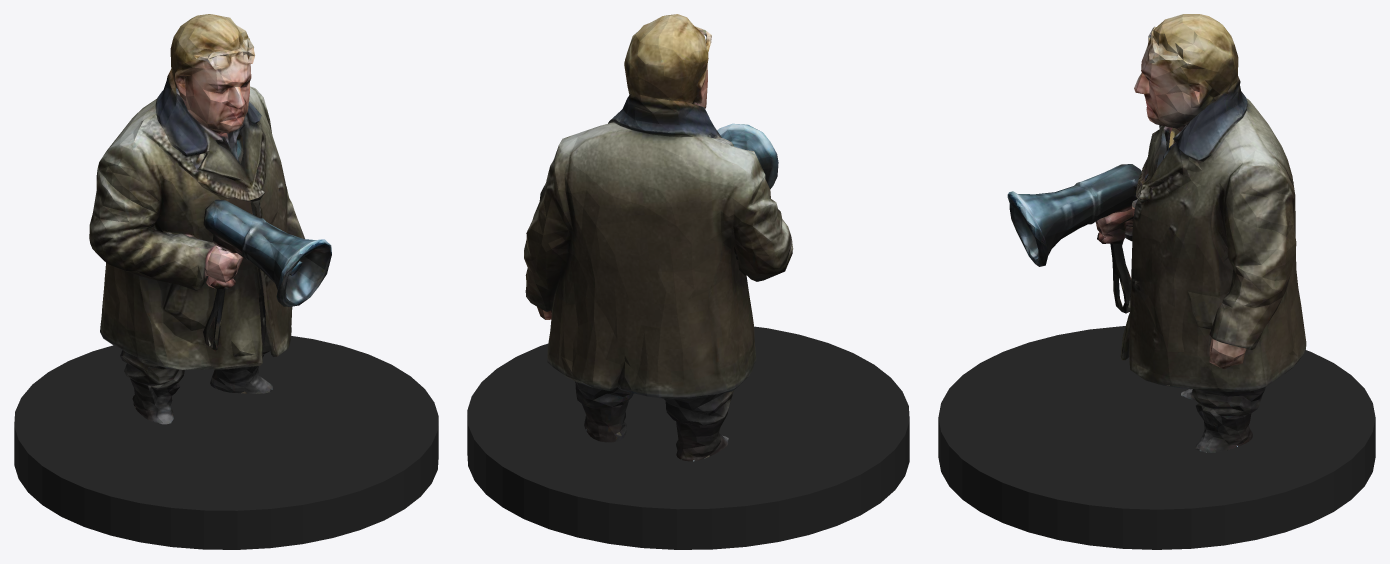
The model's file is brian-lee.glb.
3 renders of one model, left to right at view 1: azimuth 30°, elevation 25°; view 2: azimuth 150°, elevation 25°; view 3: azimuth 270°, elevation 25°, orthographic. The views are drawn at different scales.
Visible parts, largest first — view 1: base, figure; view 2: figure, base; view 3: base, figure.
Boxes of the visible parts, <box> form: base: <box>14,336,438,549</box>; figure: <box>89,14,331,424</box>; figure: <box>524,14,793,461</box>; base: <box>467,326,909,549</box>; base: <box>938,326,1375,549</box>; figure: <box>1007,14,1306,452</box>.
Bounding box in the file's own units: 1.18 × 1.32 × 1.18.
Materials: 2 (1 with a texture image).
